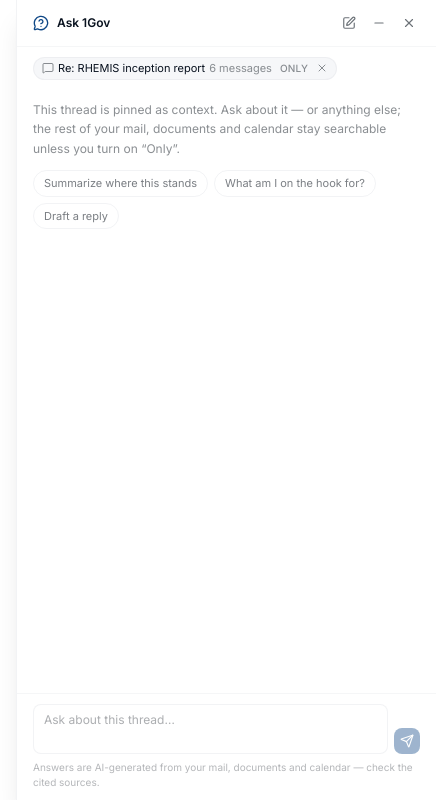
AskPanel routing › still sends unpinned when the gather throws, and says so
Type "one" into the text box with placeholder "Ask about this thread…" at x=210, y=729, box left=33, top=704, right=388, bottom=754
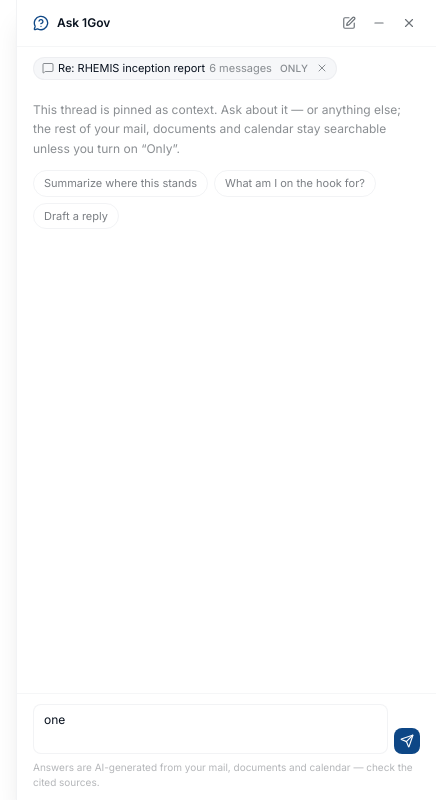
Click the button named "Send" at x=407, y=741, box left=394, top=728, right=420, bottom=754
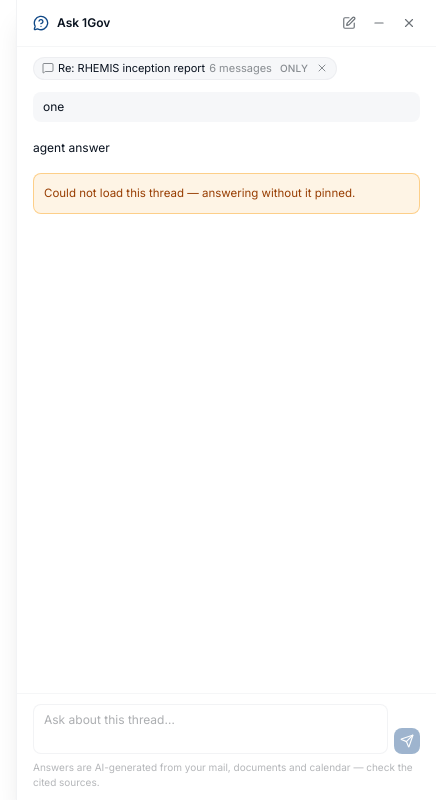
Result: the text "Could not load this thread — answering without it pinned." is shown at left=33, top=173, right=420, bottom=214
